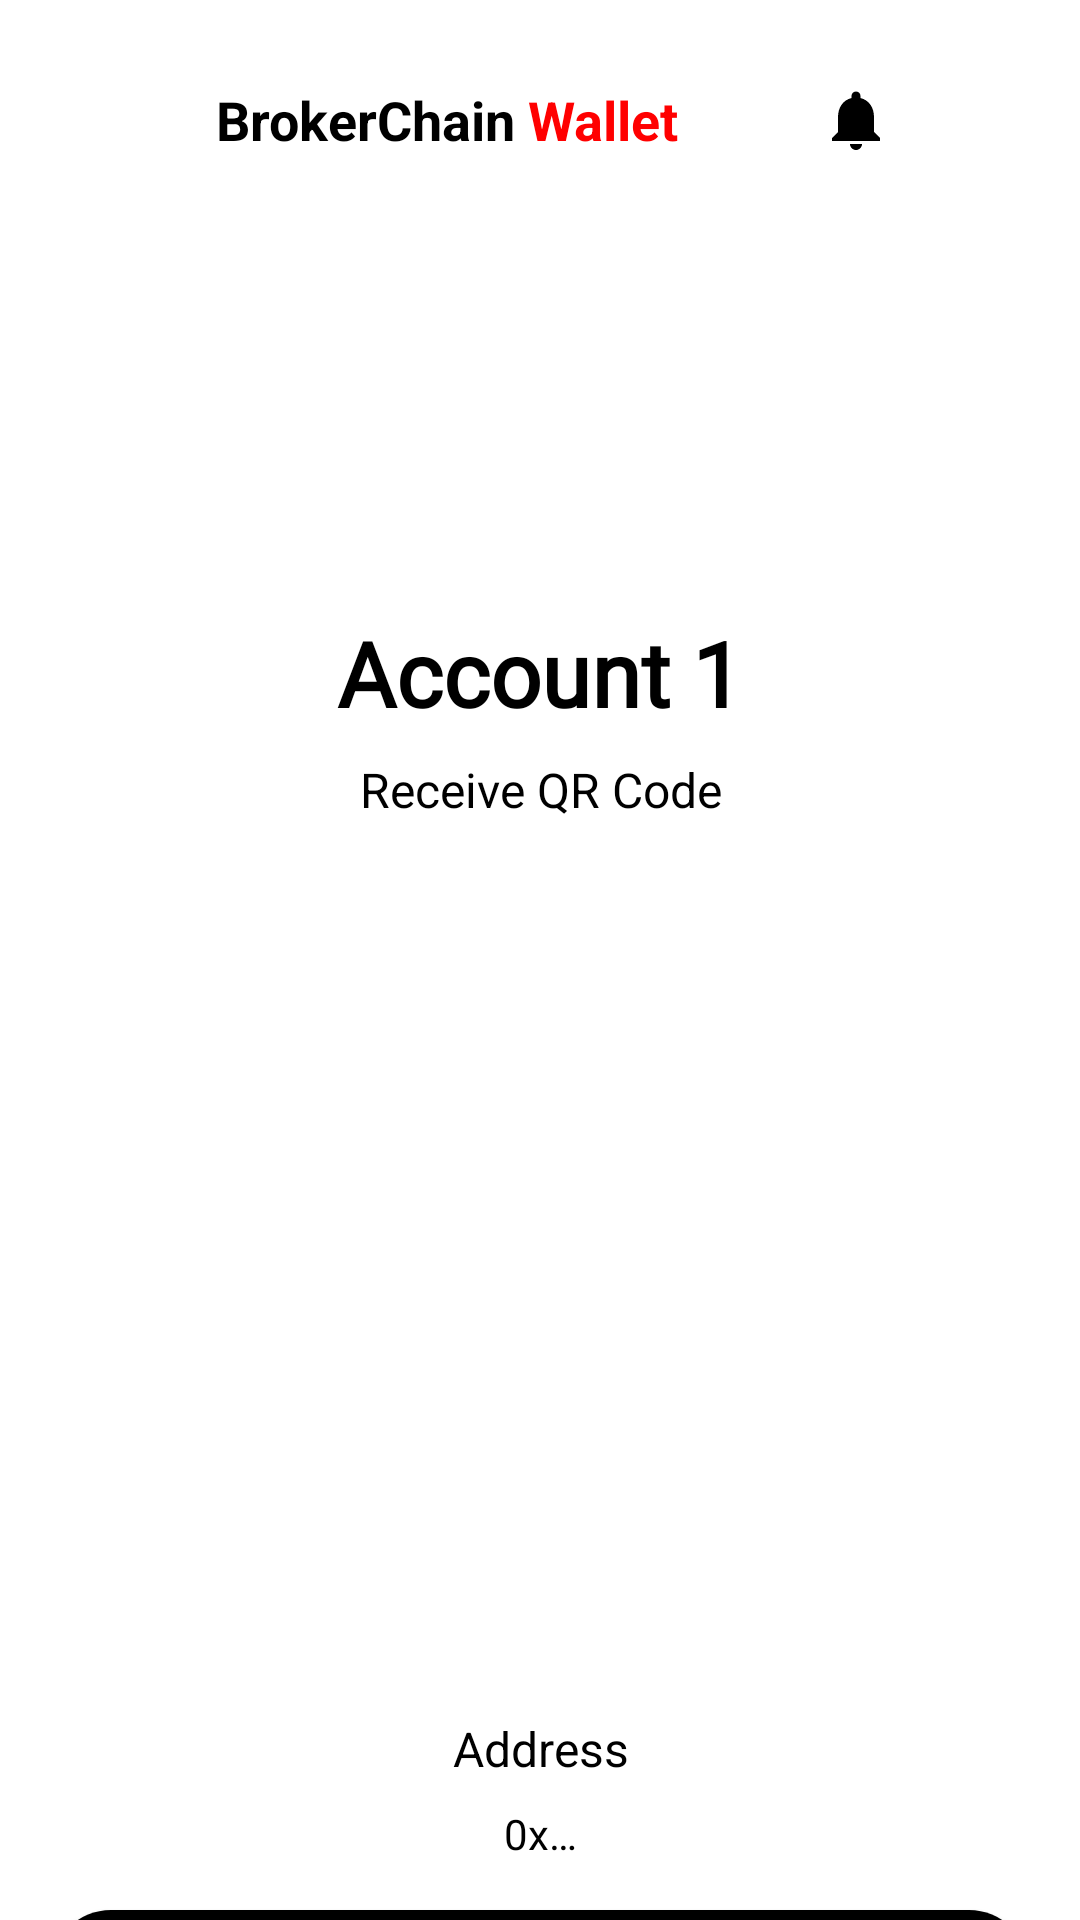

Icon click points for this 1080x1920 phone screenshot, format point (x, y):
Notifications: point (856, 120)
